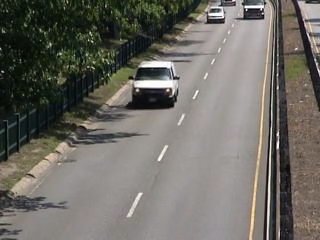car: (205, 5, 226, 25)
truck: (128, 61, 182, 109), (241, 1, 269, 23)
